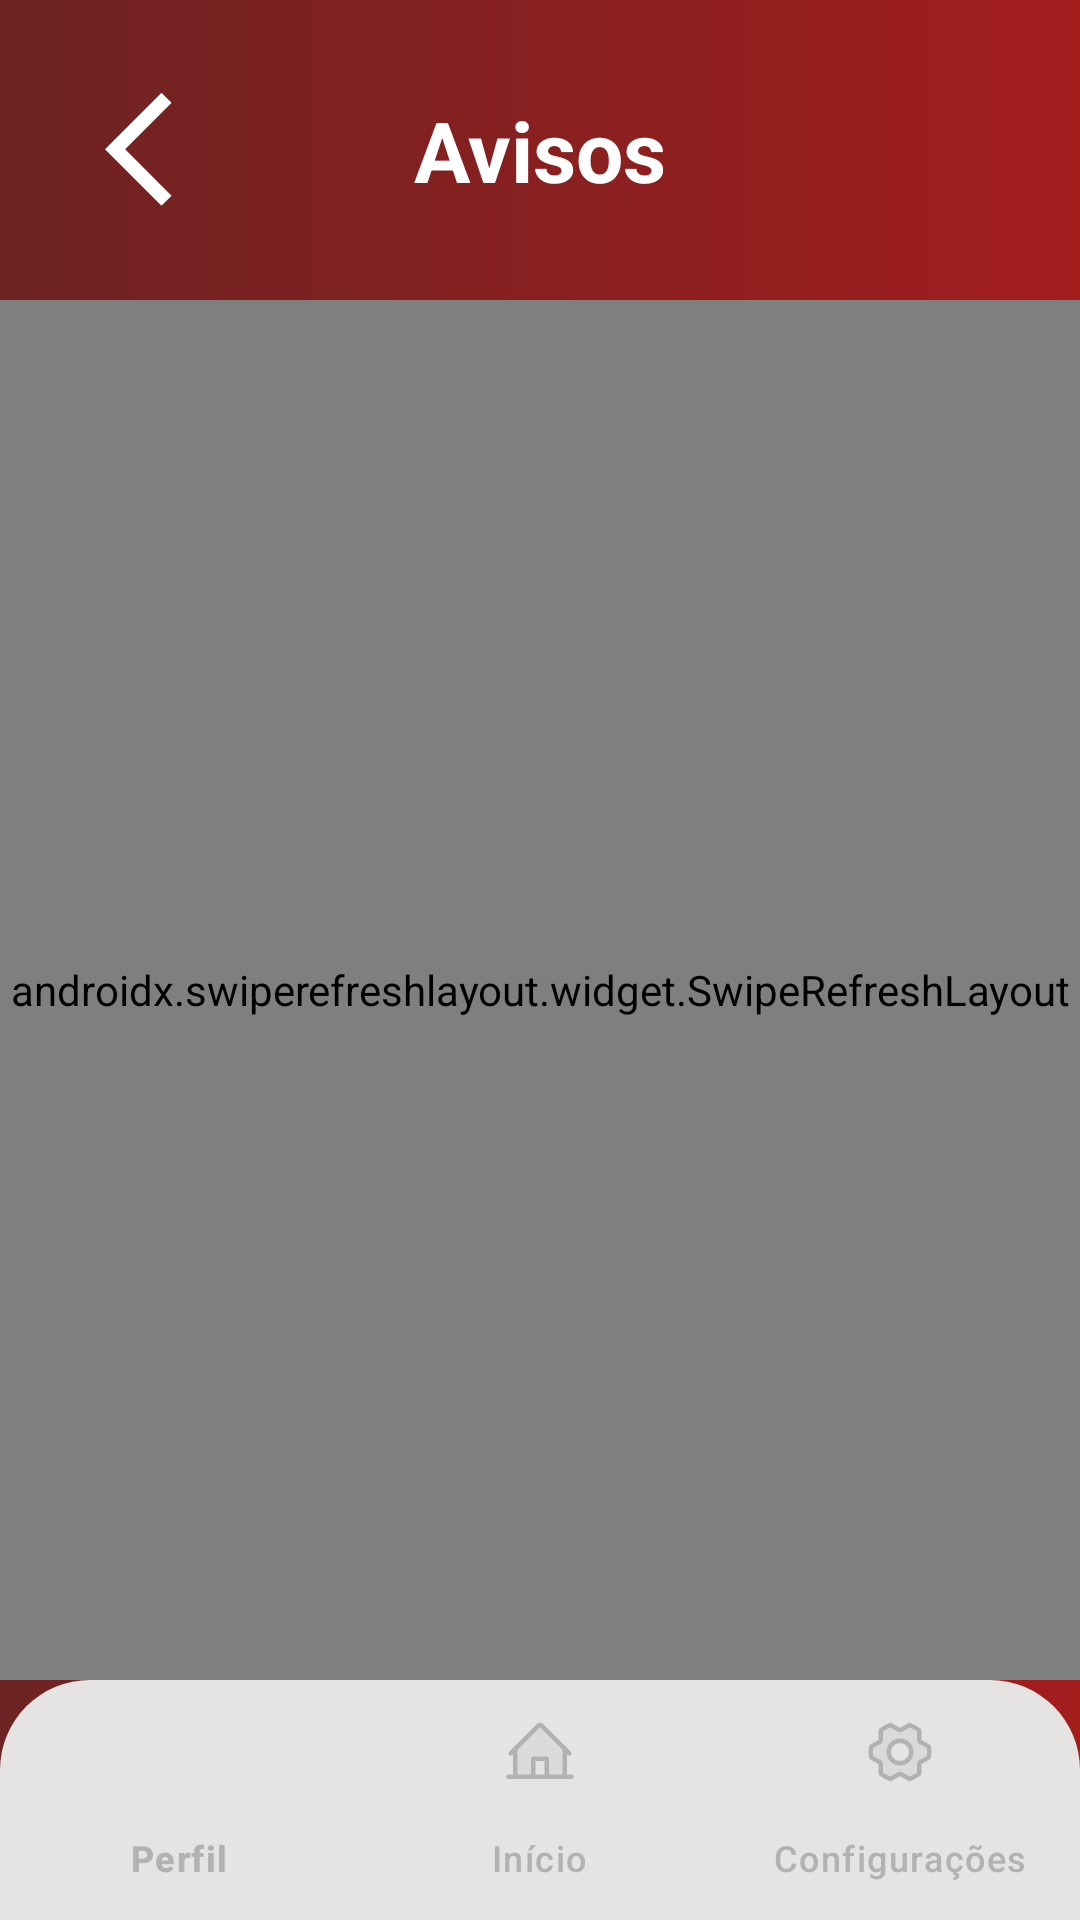

Where icons sit on this 1080 × 1920 app screen, as bbox=[x1, y1, x2, y2]:
arrow left: bbox=[105, 93, 172, 206]
